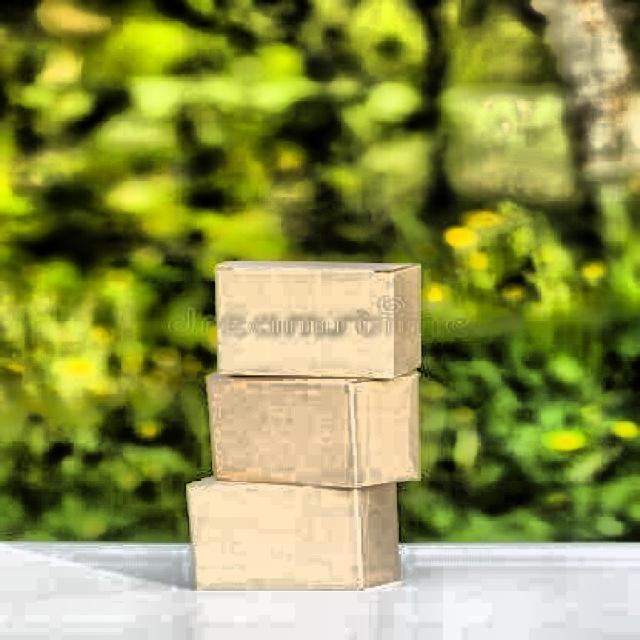Cardbox: (200, 262, 416, 596)
